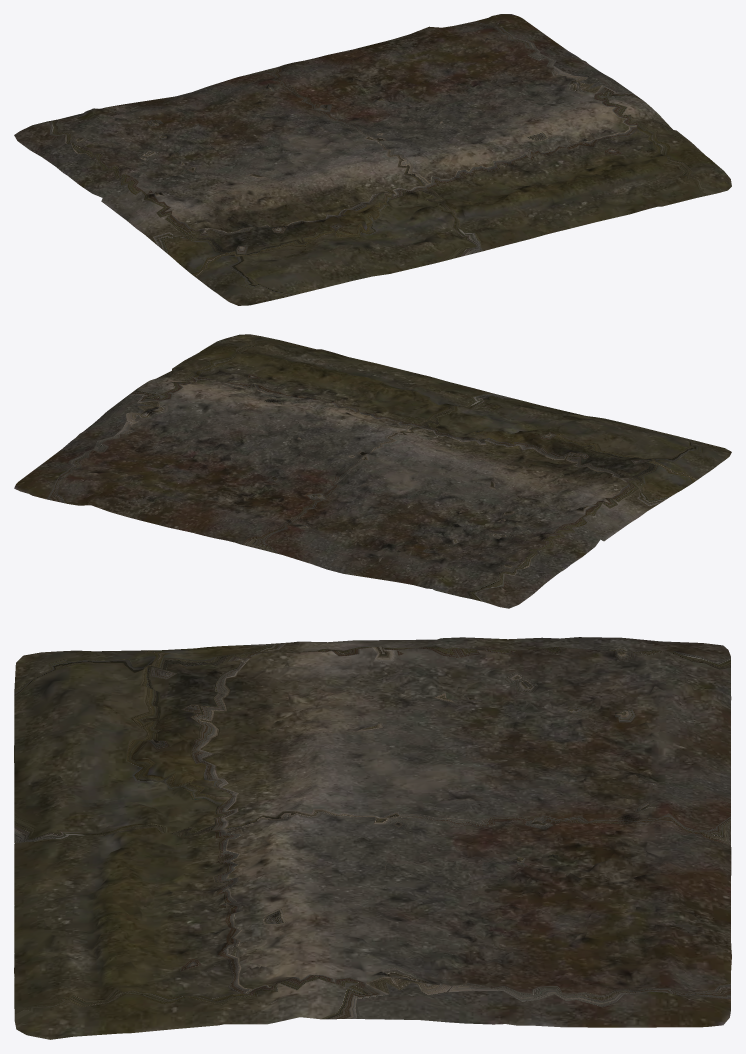
The model's file is coast_line_01_lod1.glb.
3 renders of one model, top to bottom at view 1: azimuth 30°, elevation 25°; view 2: azimuth 150°, elevation 25°; view 3: azimuth 270°, elevation 25°, orthographic. The views are drawn at different scales.
Parts seen in each view (by area): view 1: coast_line_01; view 2: coast_line_01; view 3: coast_line_01.
Boxes of the visible parts, bbox=[...] form: coast_line_01: bbox=[14, 14, 731, 305]; coast_line_01: bbox=[14, 334, 731, 608]; coast_line_01: bbox=[14, 637, 731, 1039].
Size of the model in its own units: 54.59 by 2.61 by 42.97.
Materials: 1 (1 with a texture image).
